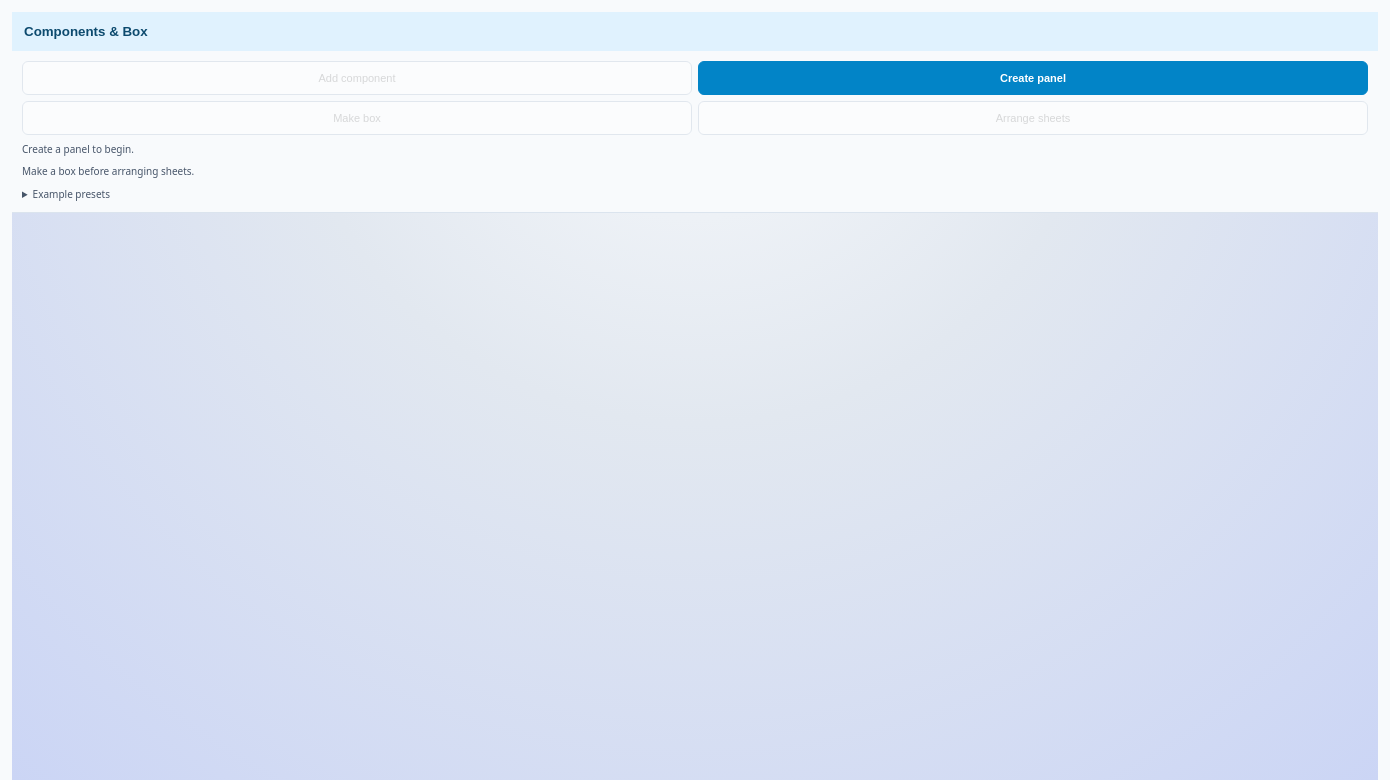
Test case: ComponentsBoxPanel › offers every exported HESTORE example in the collapsed example list
Click the heading "Example presets" at (71, 194), box [33,187,110,201]
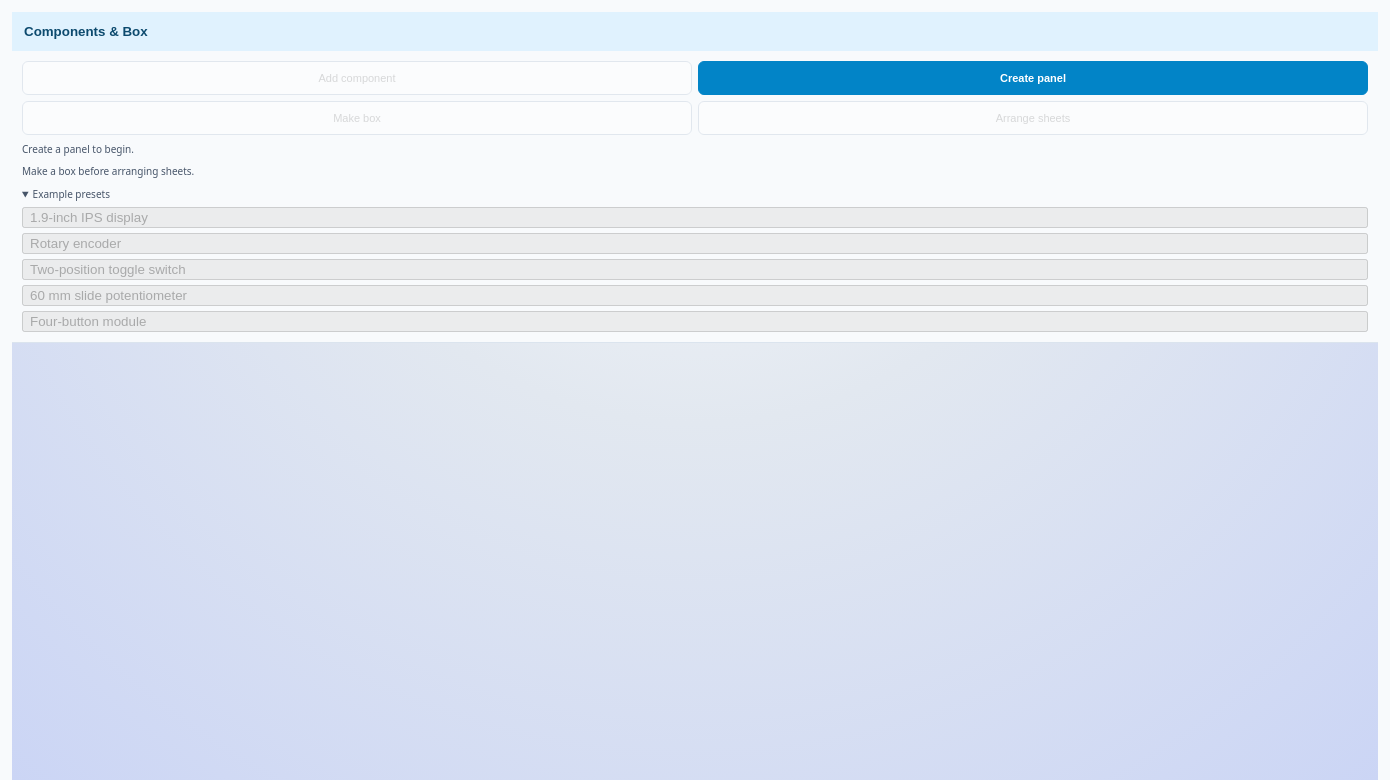
Expected: the button "1.9-inch IPS display" is shown, [22,207,1368,228]
Expected: the button "Rotary encoder" is shown, [22,233,1368,254]
Expected: the button "Two-position toggle switch" is shown, [22,259,1368,280]
